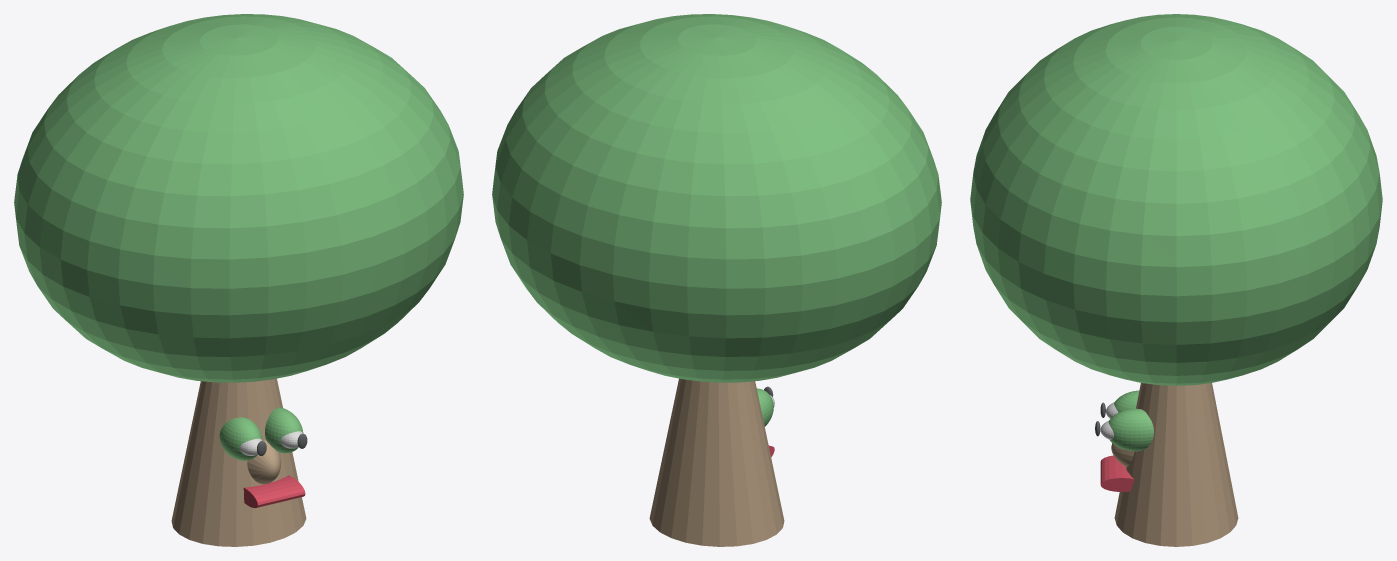
File: Tree.glb
3 renders of one model, left to right at view 1: azimuth 30°, elevation 25°; view 2: azimuth 150°, elevation 25°; view 3: azimuth 270°, elevation 25°, orthographic.
Visible parts, largest first — view 1: Mesh_Mesh_head_geo.001_lambert2SG.001; view 2: Mesh_Mesh_head_geo.001_lambert2SG.001; view 3: Mesh_Mesh_head_geo.001_lambert2SG.001.
Part boxes in pixels (bbox=[...]): Mesh_Mesh_head_geo.001_lambert2SG.001: bbox=[14, 14, 463, 546]; Mesh_Mesh_head_geo.001_lambert2SG.001: bbox=[492, 14, 941, 546]; Mesh_Mesh_head_geo.001_lambert2SG.001: bbox=[970, 14, 1382, 546].
Bounding box in the file's own units: 84 × 97 × 76.
